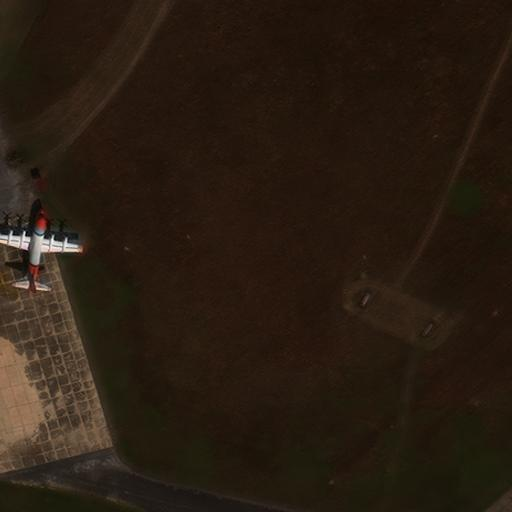Military Transport: (0, 207, 82, 292)
